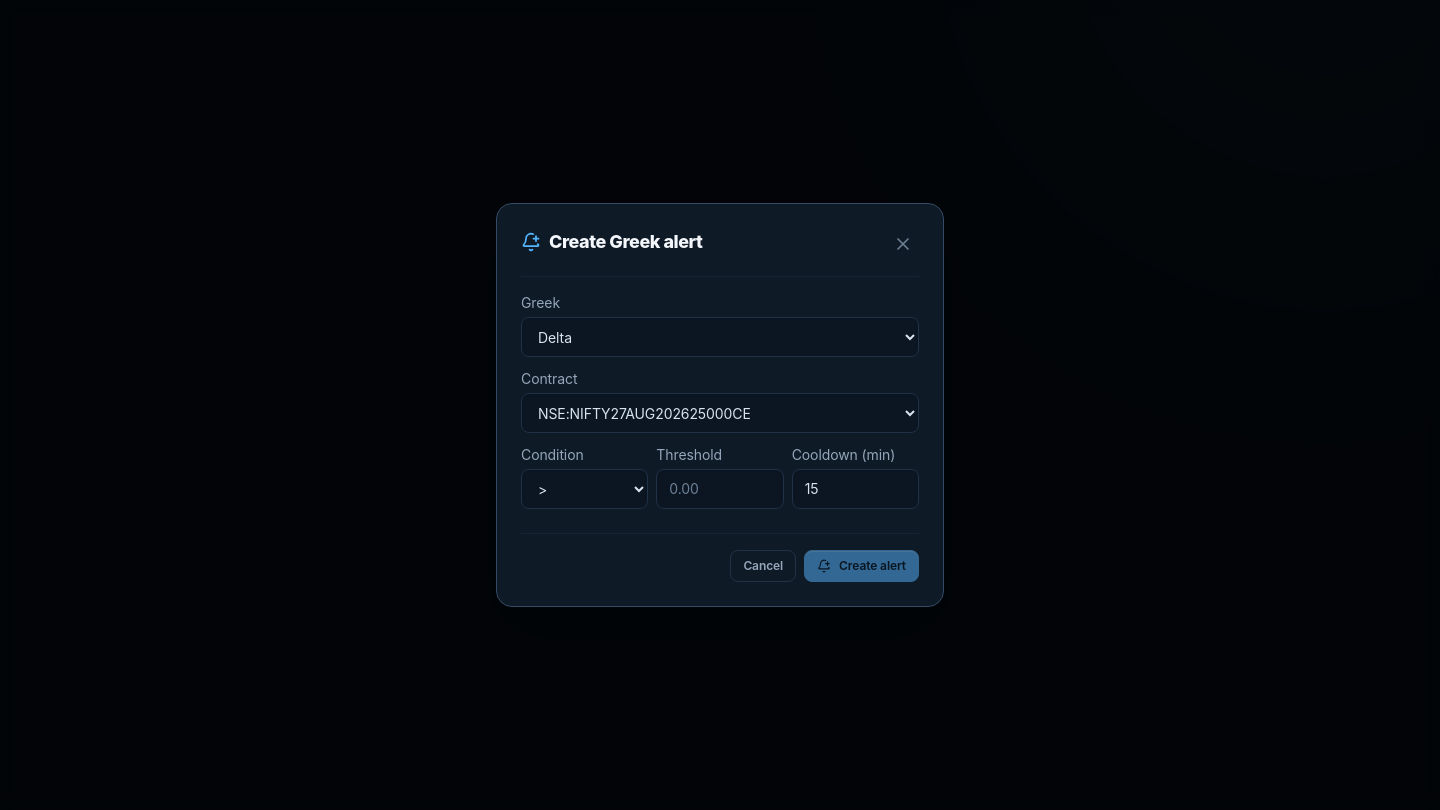
it: CreateGreekAlertModal › disables Create alert until a threshold is entered
Expected: the button "Create alert" is disabled, left=804, top=550, right=919, bottom=582
Type "0.5" into the number field named "Alert threshold" at (720, 489), box left=656, top=469, right=784, bottom=509
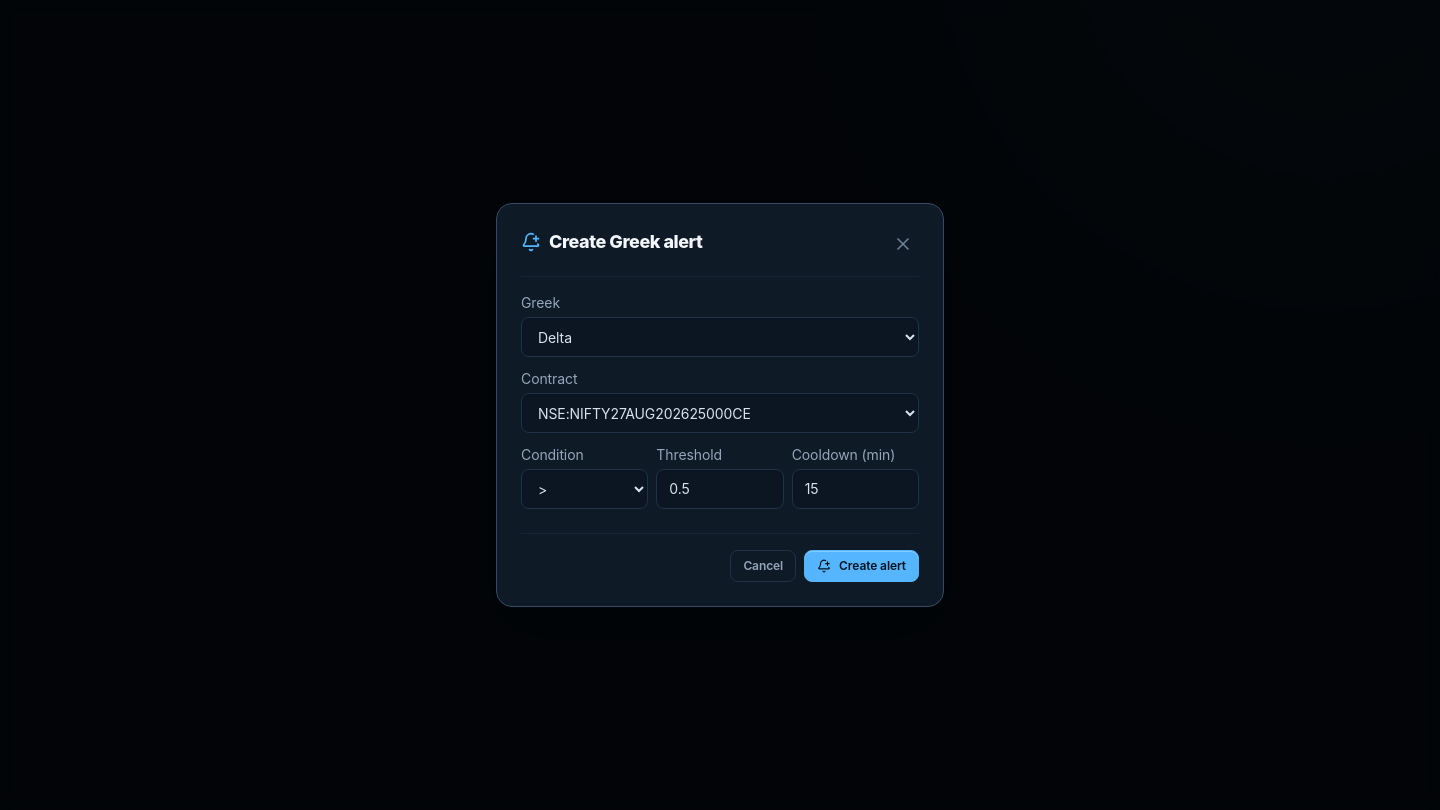
Expected: the button "Create alert" is enabled, left=804, top=550, right=919, bottom=582
